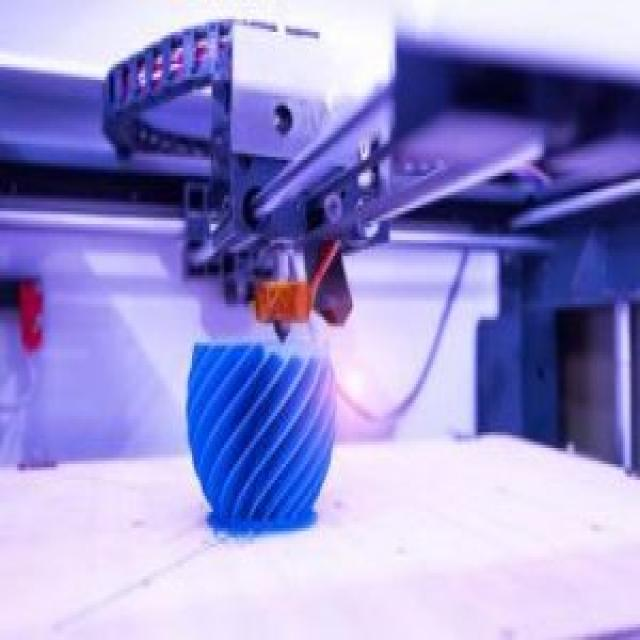Without deffect: (174, 334, 343, 534)
